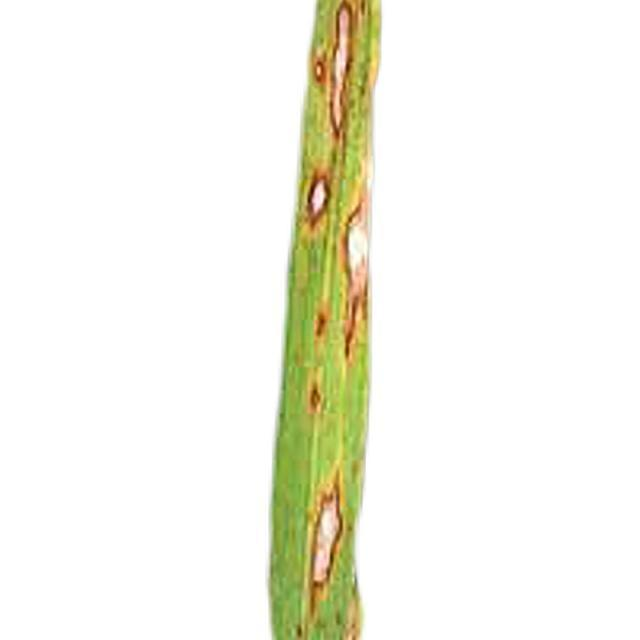Leaf_Blast: (294, 451, 365, 617), (299, 0, 375, 147), (339, 188, 378, 354), (304, 164, 328, 230)
